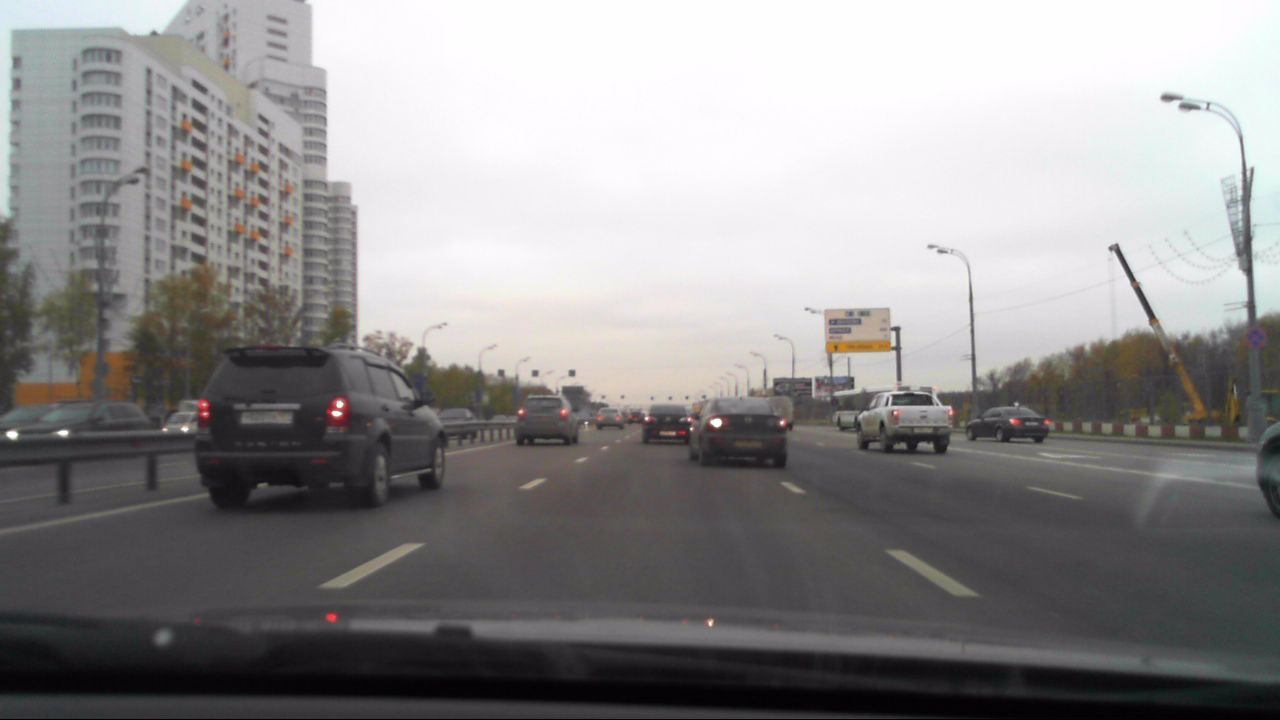No Parking: (1242, 324, 1266, 350)
